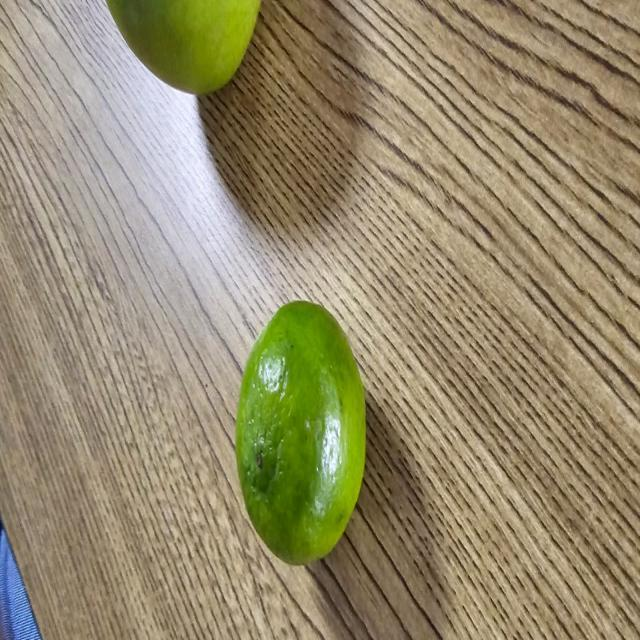Apel Granny Smith: (98, 0, 269, 103)
Lemon: (230, 296, 373, 575)
